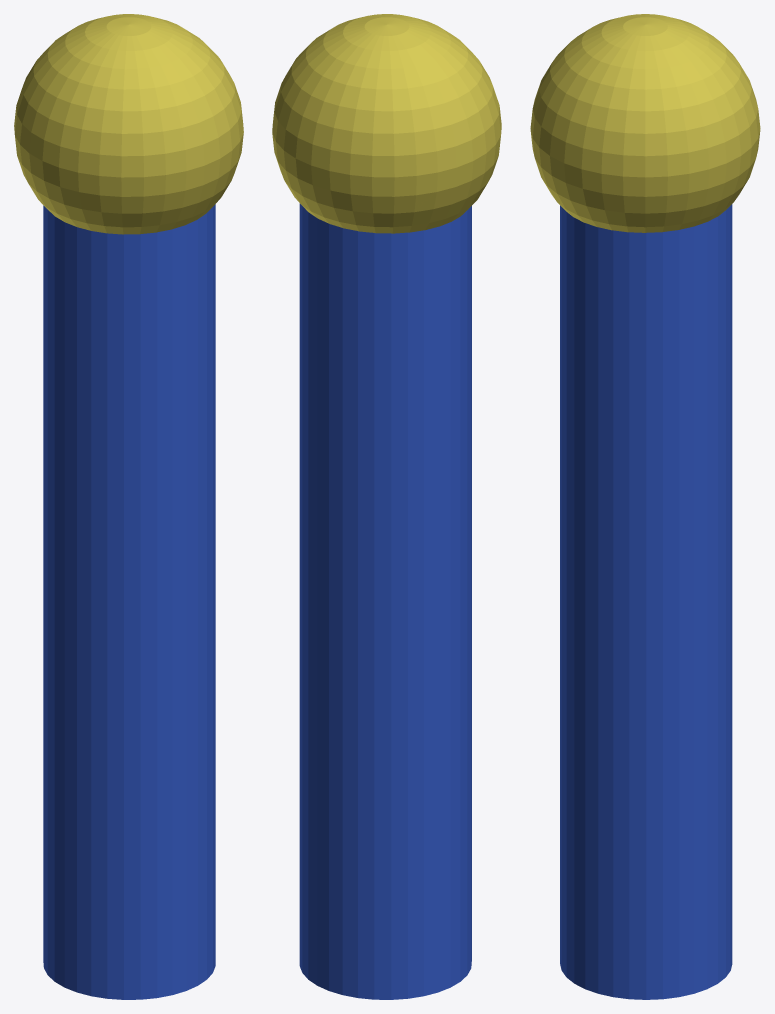
Rendered from upperLeg.dae.
3 views of the same model, side by side, from view 1: azimuth 30°, elevation 25°; view 2: azimuth 150°, elevation 25°; view 3: azimuth 270°, elevation 25° (orthographic).
Parts seen in each view (by area): view 1: Sphere; view 2: Sphere; view 3: Sphere.
Part boxes in pixels (x1=…): Sphere: x1=14, y1=14, x2=243, y2=999; Sphere: x1=272, y1=14, x2=501, y2=999; Sphere: x1=530, y1=14, x2=760, y2=999.
Bounding box in the file's own units: 0.08 × 0.08 × 0.3601.
